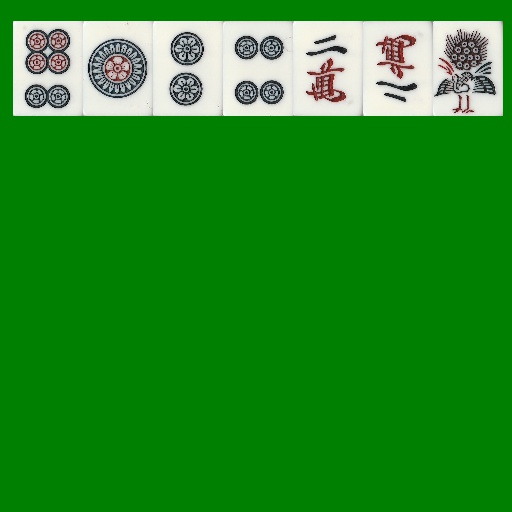1p: (83, 21, 153, 116)
1s: (433, 21, 503, 116)
2m: (293, 21, 363, 116), (363, 21, 433, 116)
2p: (153, 21, 223, 116)
4p: (223, 21, 293, 116)
6p: (13, 21, 83, 116)
